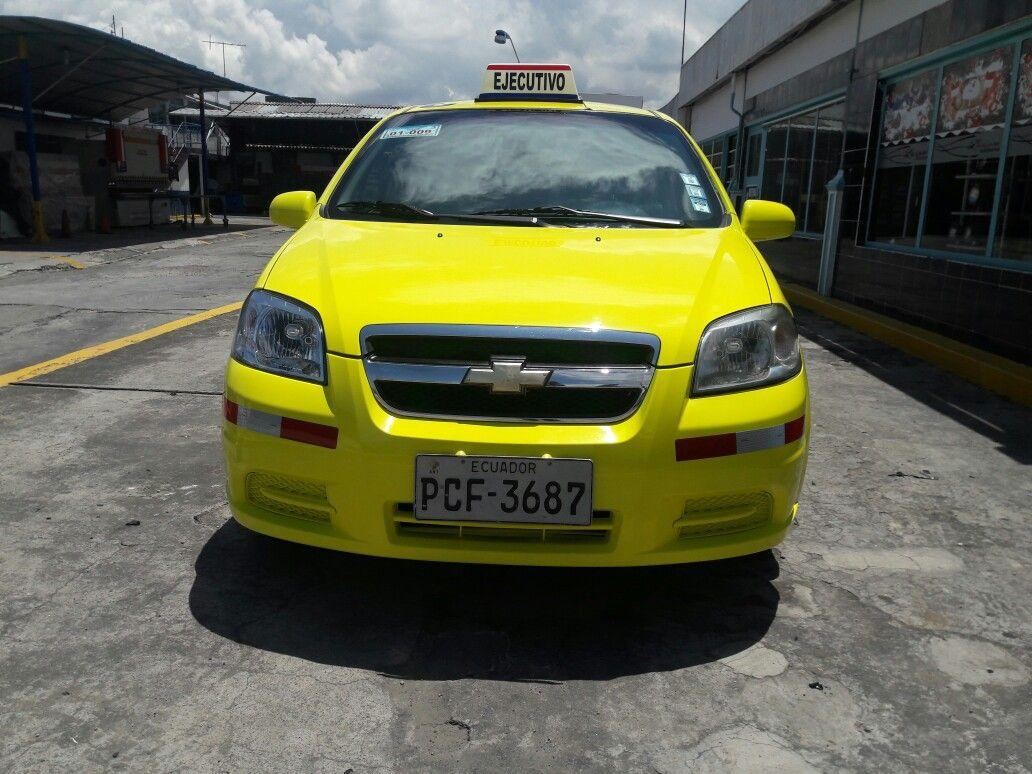taxi: (252, 51, 845, 591)
